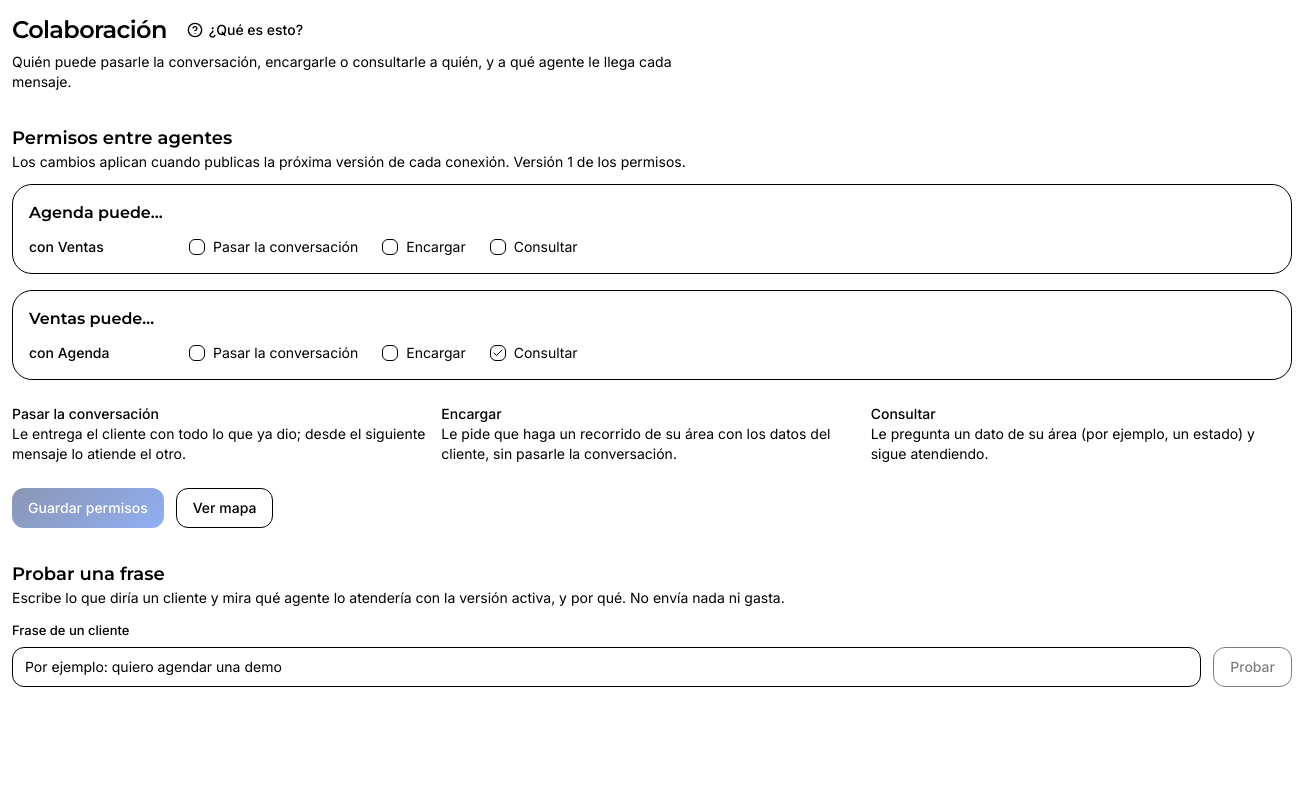
Test: colaboración entre agentes › avisa el ciclo de pasar la conversación antes de guardar
Expected: the button "Guardar permisos" is disabled, [12,488,164,528]
Click the 1st checkbox named "Pasar la conversación": {"x": 197, "y": 247} [189,239,205,255]
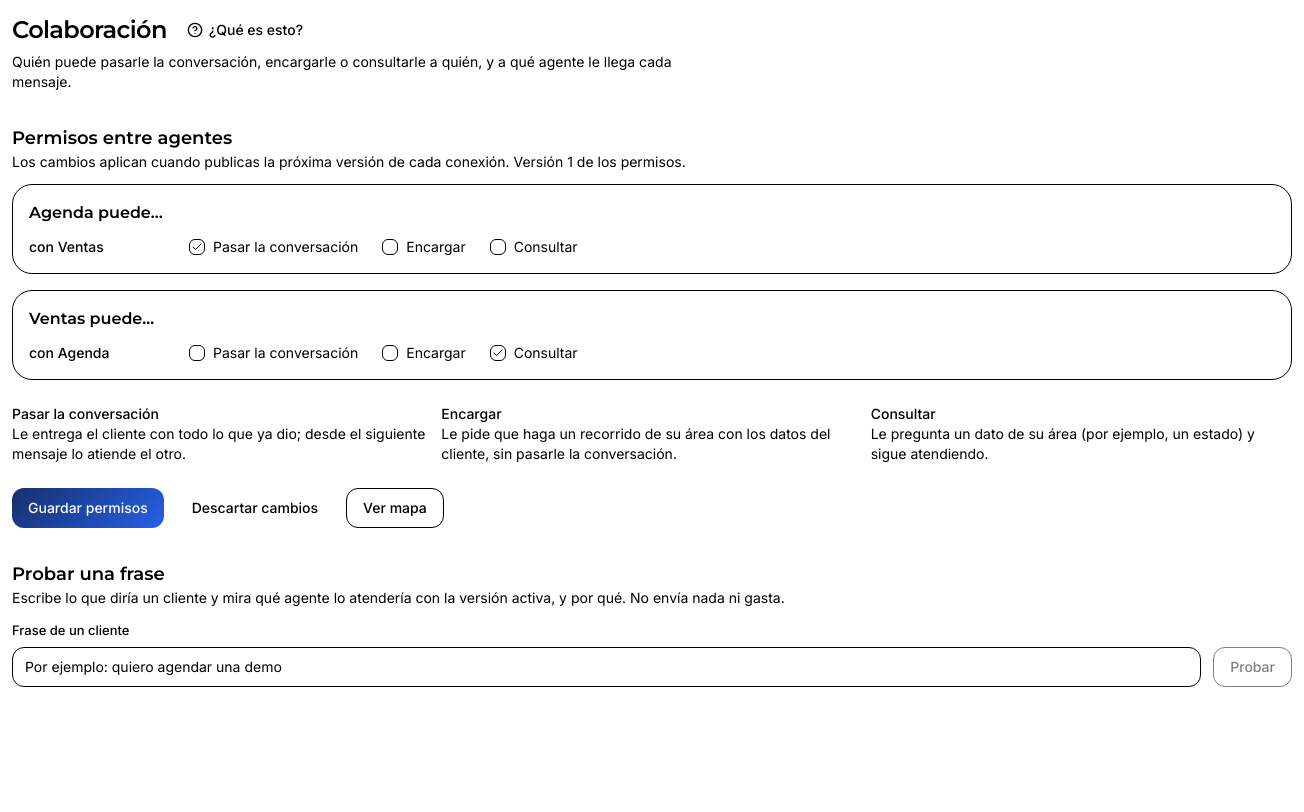
Click the 4th checkbox named "Pasar la conversación": {"x": 197, "y": 353} [189,345,205,361]
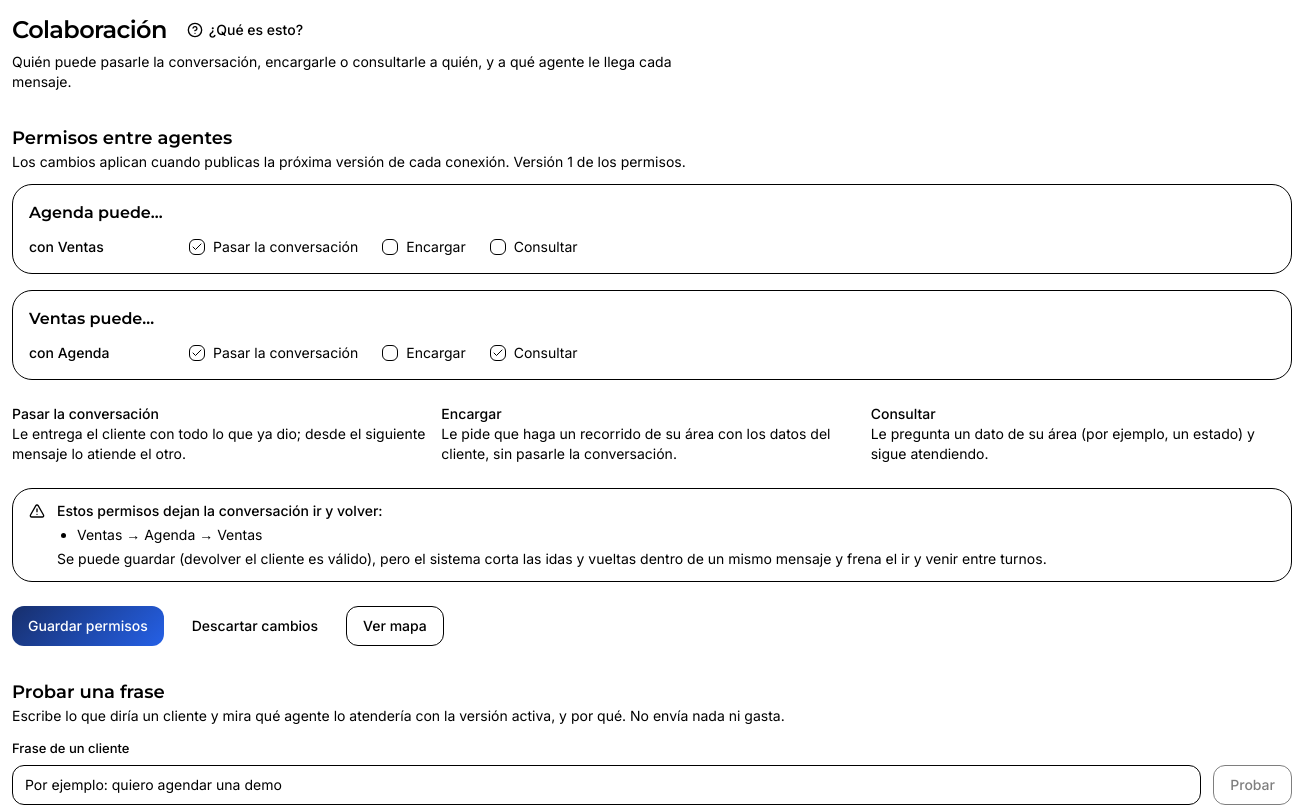
Expected: the button "Guardar permisos" is enabled, [12,606,164,646]
Expected: the message shows "Ventas → Agenda → Ventas", [77,526,262,543]
